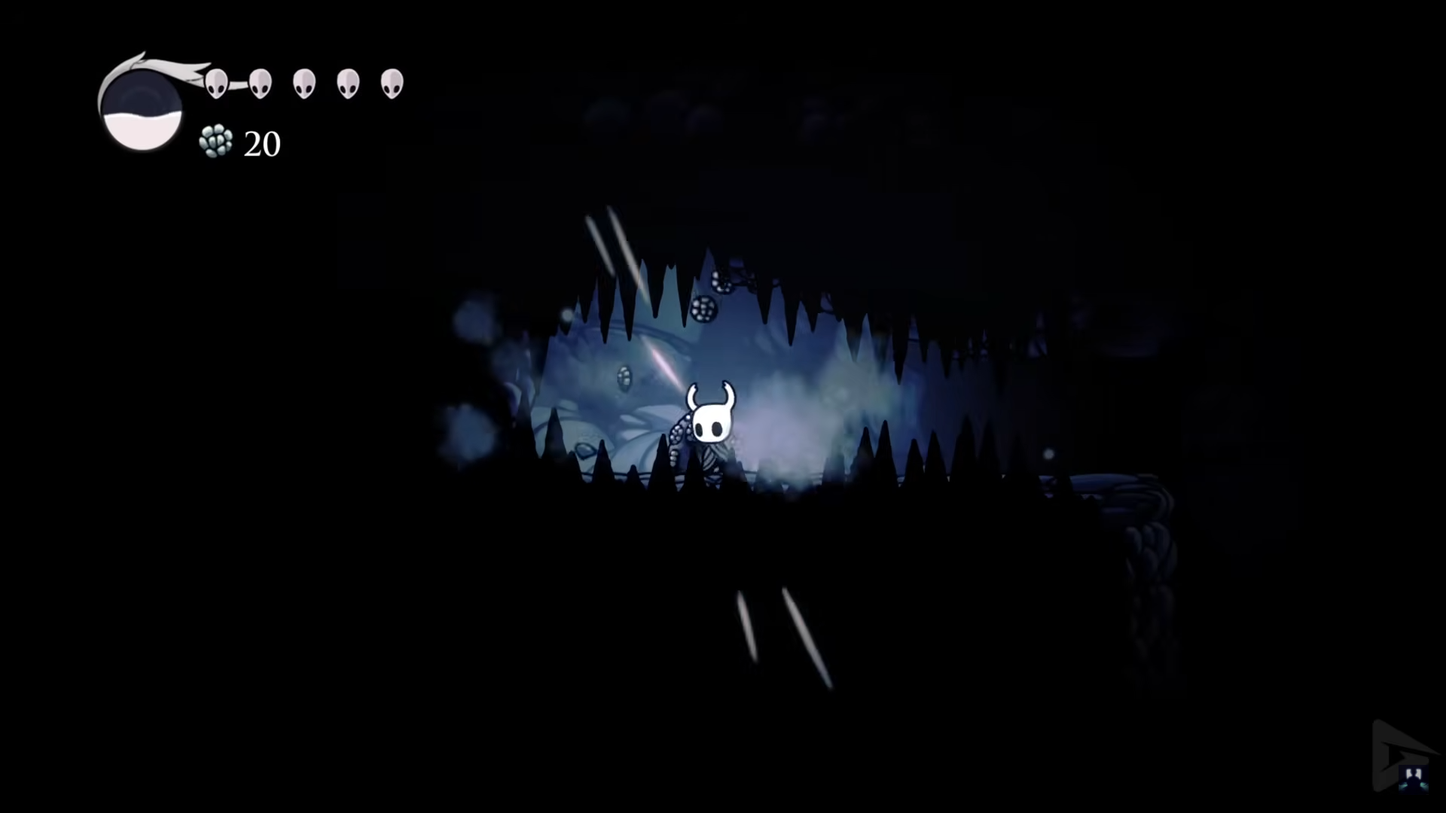HK: (680, 373, 738, 481)
